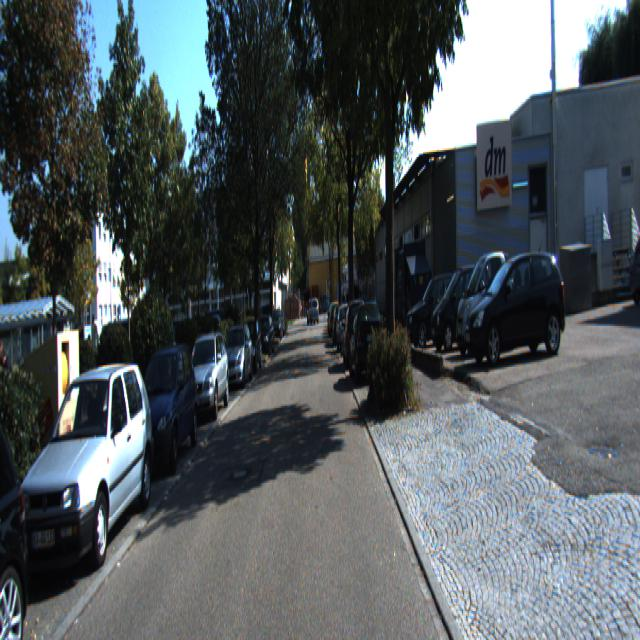Car: (14, 351, 160, 583), (463, 245, 570, 373), (0, 390, 43, 639), (128, 336, 201, 478), (452, 244, 521, 360), (428, 255, 499, 356), (404, 267, 468, 351), (181, 331, 231, 428), (349, 298, 385, 386), (220, 321, 254, 391), (343, 297, 370, 370), (625, 215, 640, 295)
